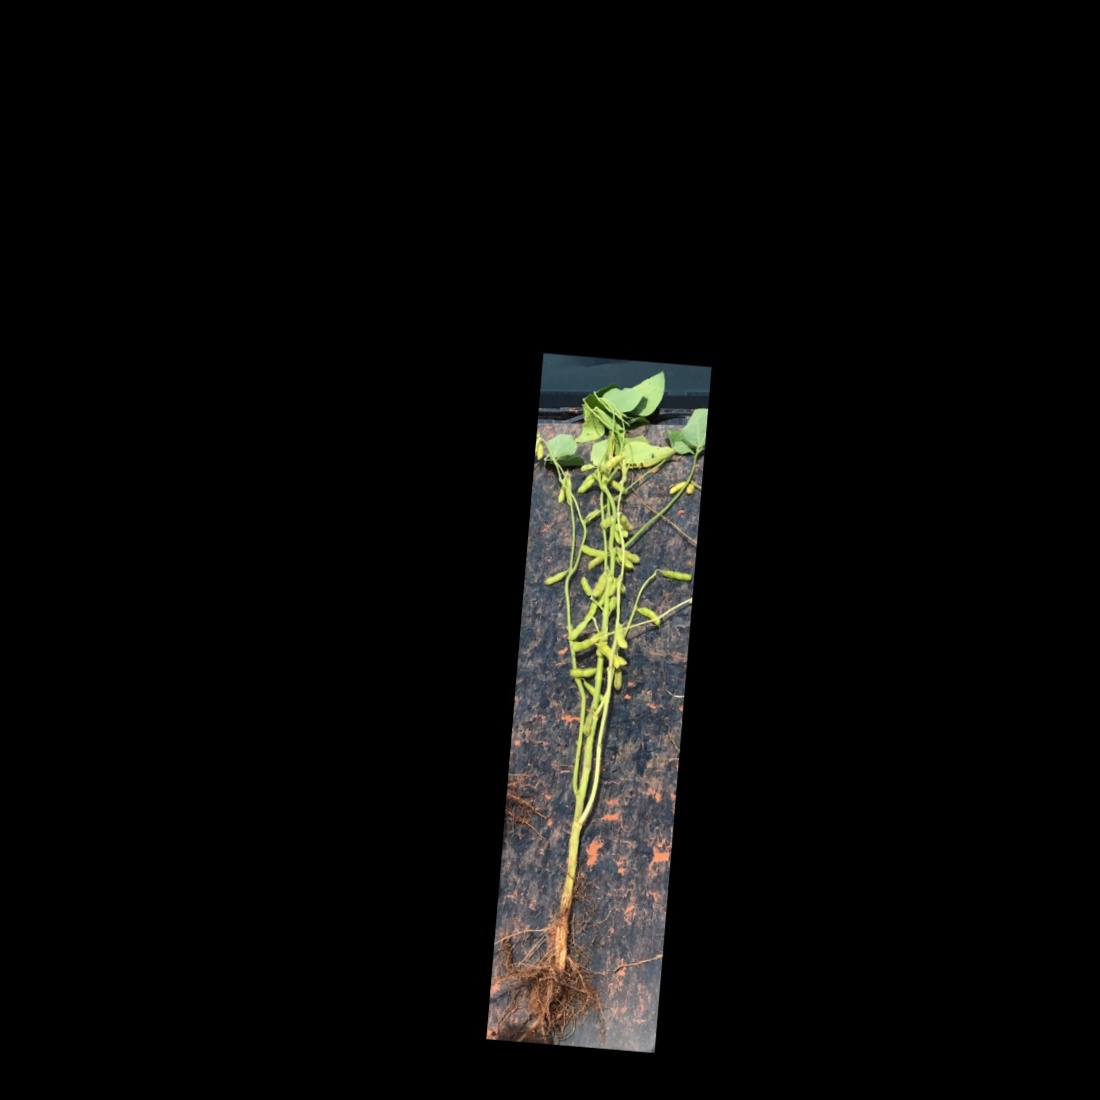pod: (633, 604, 664, 626), (541, 565, 568, 589), (656, 567, 693, 583), (566, 664, 600, 680), (582, 595, 600, 626), (579, 543, 609, 559), (575, 474, 599, 494), (577, 575, 595, 599), (665, 478, 685, 496)
soy: (489, 356, 708, 1032)
